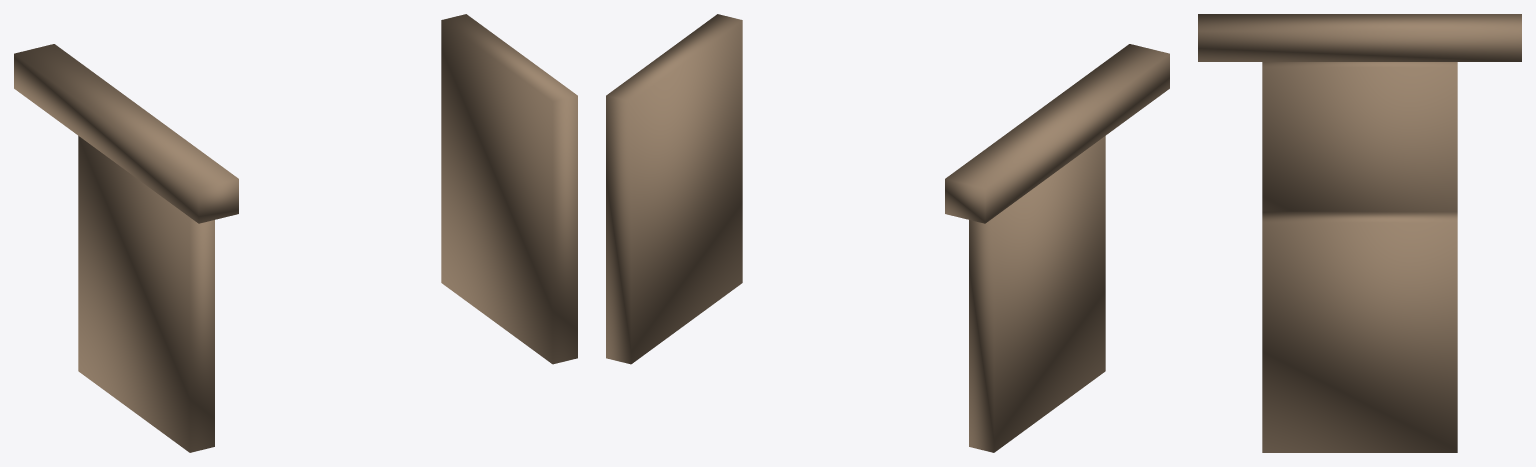
Rendered from luggage_rack__compact.glb.
The picture shows the model from 3 angles, left to right: view 1: azimuth 30°, elevation 25°; view 2: azimuth 150°, elevation 25°; view 3: azimuth 270°, elevation 25°; orthographic projection. The views are drawn at different scales.
Parts seen in each view (by area): view 1: world; view 2: world; view 3: world.
Boxes of the visible parts, x1,y1,x2,y2 form: world: [14, 14, 577, 452]; world: [606, 14, 1169, 452]; world: [1198, 14, 1521, 452].
Bounding box in the file's own units: 0.693 × 0.4743 × 0.5332.
